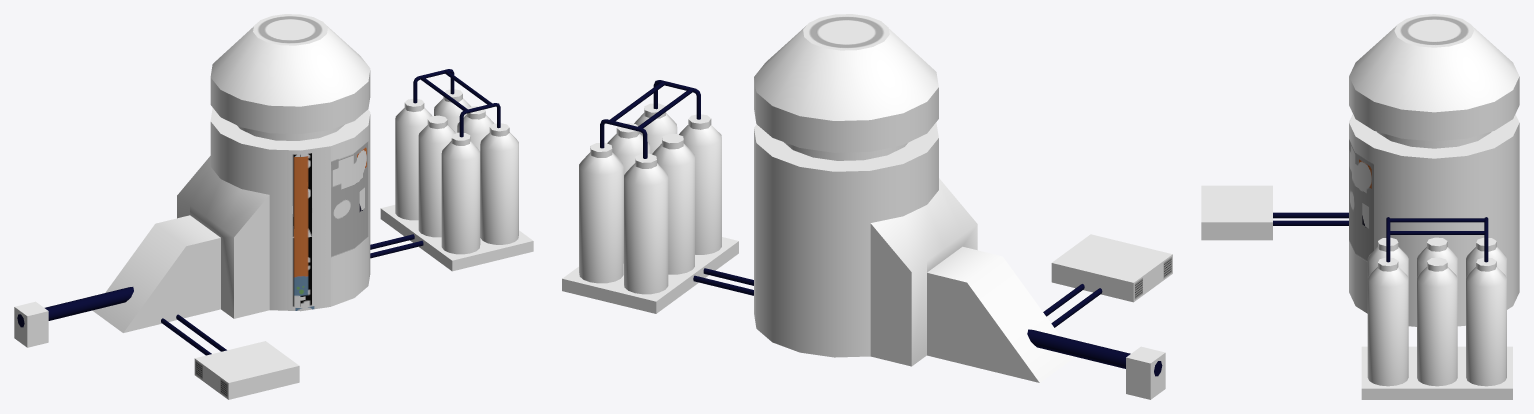
Rendered from o2generator.fbx.
3 renders of one model, left to right at view 1: azimuth 30°, elevation 25°; view 2: azimuth 150°, elevation 25°; view 3: azimuth 270°, elevation 25°, orthographic. The views are drawn at different scales.
Visible parts, largest first — view 1: o2generator; view 2: o2generator; view 3: o2generator.
Boxes of the visible parts, box(x1,y1,x2,y2) form: o2generator: box(14, 14, 533, 399); o2generator: box(562, 14, 1172, 399); o2generator: box(1201, 14, 1519, 399).
Bounding box in the file's own units: 14.15 × 7 × 7.71.
